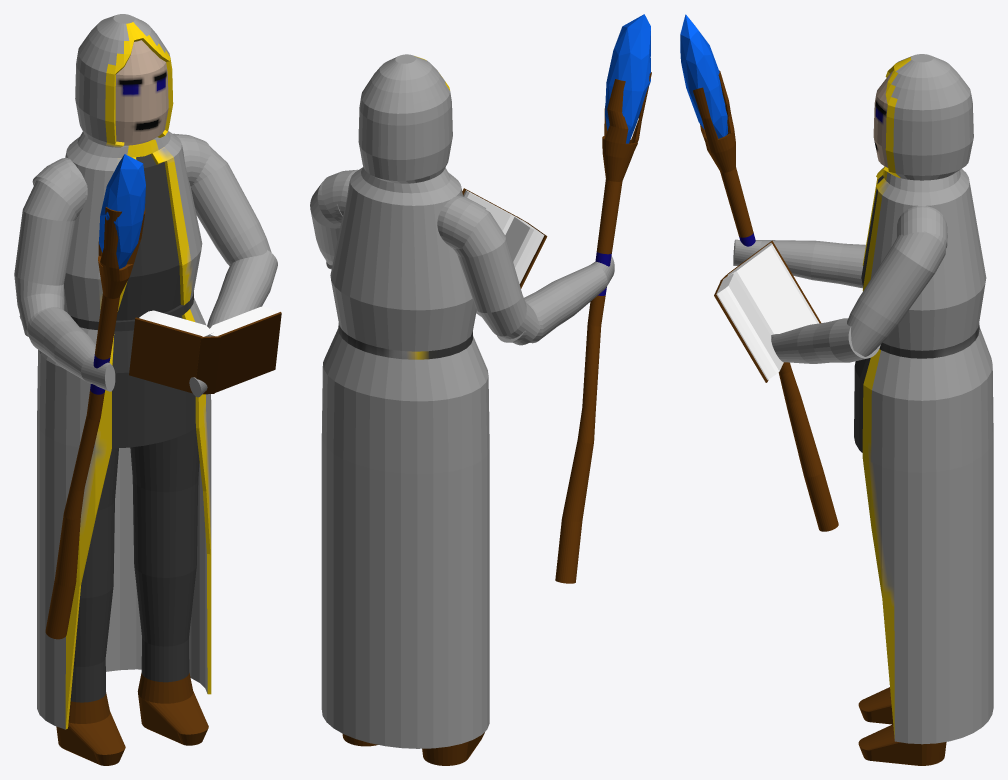
File: Маг1.fbx
3 renders of one model, left to right at view 1: azimuth 30°, elevation 25°; view 2: azimuth 150°, elevation 25°; view 3: azimuth 270°, elevation 25°, orthographic. The views are drawn at different scales.
Visible parts, largest first — view 1: Цилиндр.098, Цилиндр.102, Цилиндр.110, Цилиндр.109, Цилиндр.029, Цилиндр.104, Цилиндр.107, Цилиндр.106, Куб.058, Цилиндр.103, Куб.057, Икосфера (+7 smaller); view 2: Цилиндр.098, Цилиндр.029, Цилиндр.104, Икосфера, Цилиндр.103, Цилиндр.101, Цилиндр.106, Куб.055, Цилиндр.100, Цилиндр.107, Куб.054; view 3: Цилиндр.098, Цилиндр.029, Цилиндр.106, Куб.055, Цилиндр.103, Цилиндр.105, Икосфера, Куб.054, Цилиндр.102, Цилиндр.110, Цилиндр.100, Цилиндр.107.
Part boxes in pixels (x1=…): Цилиндр.098: x1=37, y1=14, x2=211, y2=729; Цилиндр.102: x1=112, y1=40, x2=195, y2=448; Цилиндр.110: x1=134, y1=566, x2=208, y2=745; Цилиндр.109: x1=130, y1=428, x2=199, y2=577; Цилиндр.029: x1=45, y1=207, x2=145, y2=639; Цилиндр.104: x1=14, y1=171, x2=87, y2=336; Цилиндр.107: x1=56, y1=586, x2=125, y2=765; Цилиндр.106: x1=190, y1=146, x2=271, y2=266; Куб.058: x1=129, y1=317, x2=202, y2=393; Цилиндр.103: x1=19, y1=307, x2=115, y2=391; Куб.057: x1=214, y1=312, x2=281, y2=392; Икосфера: x1=99, y1=154, x2=145, y2=268; Цилиндр.098: x1=321, y1=54, x2=489, y2=748; Цилиндр.029: x1=555, y1=72, x2=651, y2=583; Цилиндр.104: x1=453, y1=198, x2=540, y2=345; Икосфера: x1=605, y1=14, x2=650, y2=143; Цилиндр.103: x1=497, y1=256, x2=614, y2=343; Цилиндр.101: x1=437, y1=195, x2=485, y2=249; Цилиндр.106: x1=310, y1=181, x2=342, y2=265; Куб.055: x1=476, y1=217, x2=544, y2=316; Цилиндр.100: x1=321, y1=169, x2=357, y2=222; Цилиндр.107: x1=422, y1=732, x2=484, y2=765; Куб.054: x1=463, y1=190, x2=515, y2=234; Цилиндр.098: x1=862, y1=54, x2=993, y2=744; Цилиндр.029: x1=693, y1=70, x2=838, y2=531; Цилиндр.106: x1=847, y1=231, x2=947, y2=356; Куб.055: x1=727, y1=242, x2=819, y2=335; Цилиндр.103: x1=733, y1=239, x2=865, y2=288; Цилиндр.105: x1=771, y1=318, x2=880, y2=363; Икосфера: x1=680, y1=14, x2=728, y2=138; Куб.054: x1=716, y1=273, x2=783, y2=379; Цилиндр.102: x1=854, y1=71, x2=892, y2=452; Цилиндр.110: x1=858, y1=724, x2=946, y2=765; Цилиндр.100: x1=896, y1=206, x2=947, y2=247; Цилиндр.107: x1=858, y1=687, x2=893, y2=724.
Size of the model in its own units: 42.33 by 114 by 47.61.
